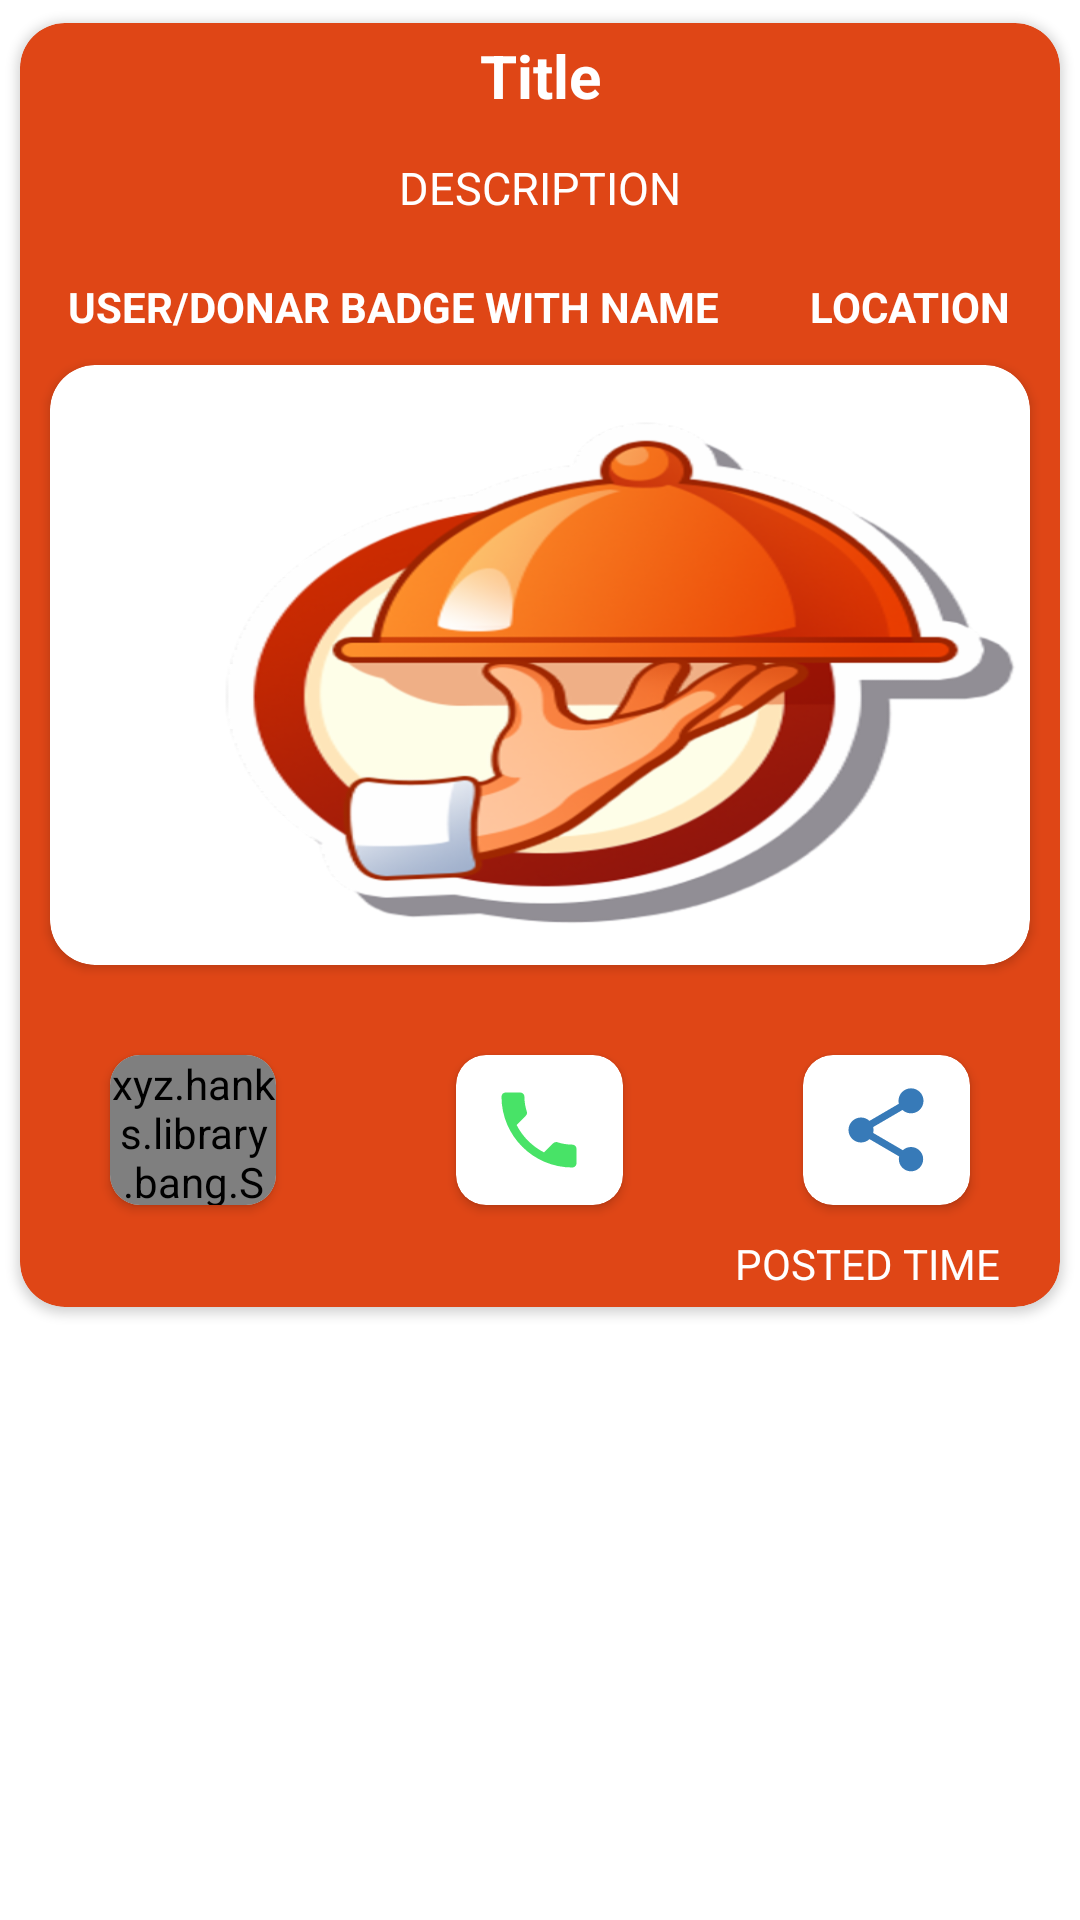

Locate icon controls on the screen. Image size 1080px×1920px, boxes as (x1, y1, x2, y2).
phone: (501, 1092, 577, 1168)
share: (848, 1088, 924, 1172)
